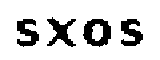o: (82, 17, 112, 49)
s: (119, 16, 144, 50), (14, 17, 39, 50)
x: (44, 14, 77, 48)
